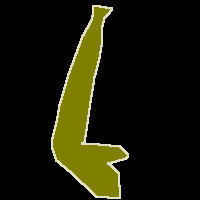tie: (52, 6, 128, 198)
